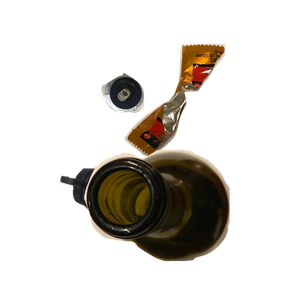glass: (82, 147, 300, 300)
metal: (99, 70, 236, 176)
plastic: (58, 162, 261, 300)
trash: (122, 41, 300, 190)
